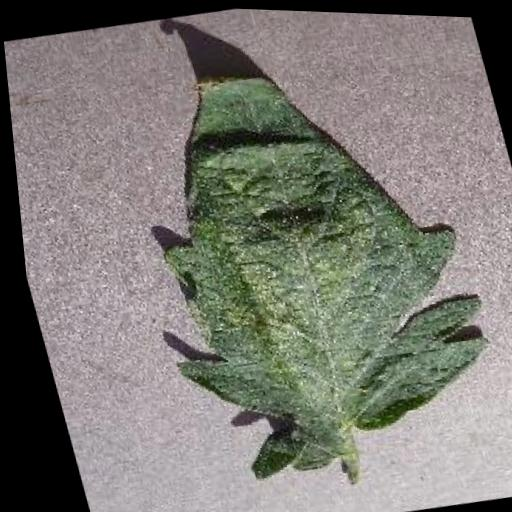Spider Mites: (99, 36, 512, 494)
